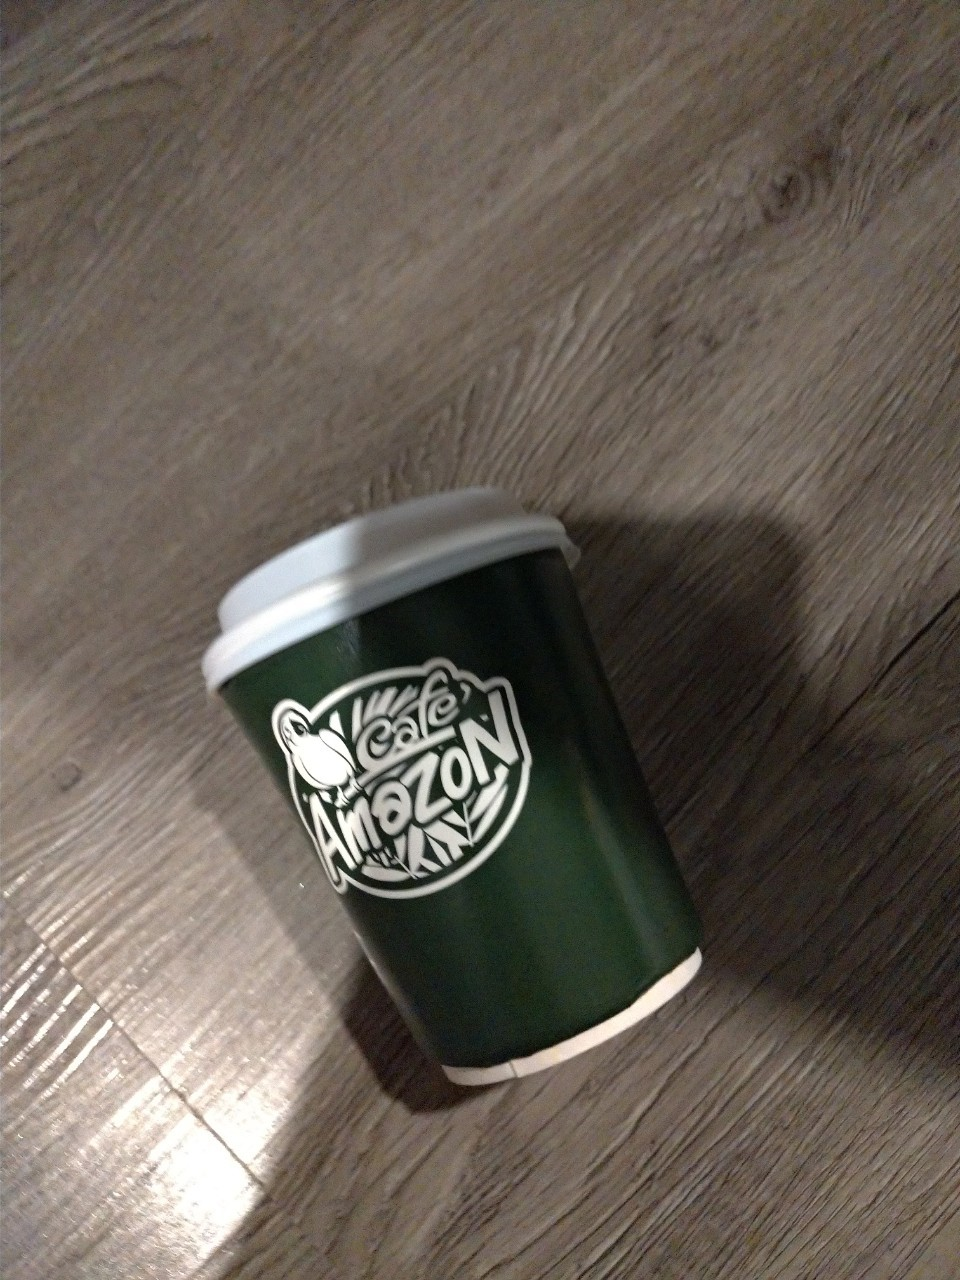PaperCup: (204, 480, 700, 1089)
